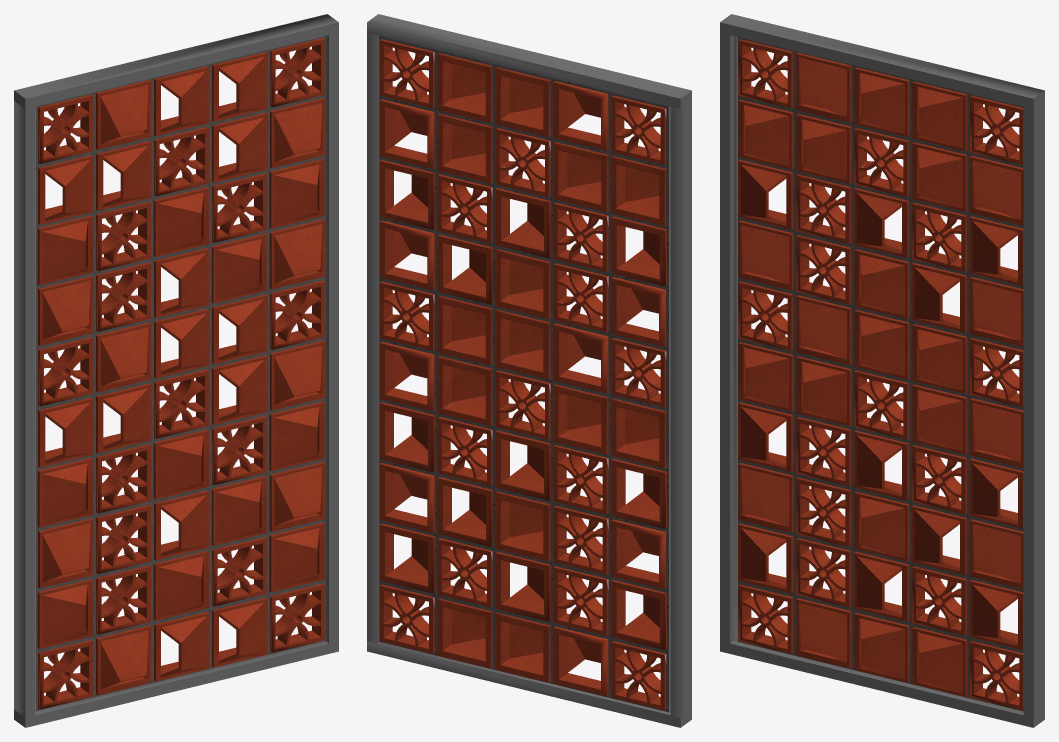
File: jaali_partition.glb
3 renders of one model, left to right at view 1: azimuth 30°, elevation 25°; view 2: azimuth 150°, elevation 25°; view 3: azimuth 330°, elevation 25°, orthographic.
Parts seen in each view (by area): view 1: mesh_237_ROOT__Component_5395_Layer0, mesh_239_ROOT__Component_5422_Layer0, mesh_238_ROOT__Component_2172_Layer0, mesh_0_ROOT__Component_2172_Layer0, mesh_103_ROOT__Component_2199__Component_2254__CAMP__Compone, mesh_192_ROOT__Component_2199__Component_2254__CAMP__Compone, mesh_207_ROOT__Component_2199__Component_2254__CAMP__Compone, mesh_10_ROOT__Component_2199__Component_2254__CAMP__Componen, mesh_19_ROOT__Component_2199__Component_2254__CAMP__Componen, mesh_132_ROOT__Component_2199__Component_2254__CAMP__Compone, mesh_159_ROOT__Component_2199__Component_2254__CAMP__Compone, mesh_183_ROOT__Component_2199__Component_2254__CAMP__Compone (+53 smaller); view 2: mesh_237_ROOT__Component_5395_Layer0, mesh_239_ROOT__Component_5422_Layer0, mesh_238_ROOT__Component_2172_Layer0, mesh_0_ROOT__Component_2172_Layer0, mesh_112_ROOT__Component_2199__Component_2254__CAMP__Compone, mesh_65_ROOT__Component_2199__Component_2254__CAMP__Componen, mesh_85_ROOT__Component_2199__Component_2254__CAMP__Componen, mesh_197_ROOT__Component_2199__Component_2254__CAMP__Compone, mesh_29_ROOT__Component_2199__Component_2254__CAMP__Componen, mesh_34_ROOT__Component_2199__Component_2254__CAMP__Componen, mesh_154_ROOT__Component_2199__Component_2254__CAMP__Compone, mesh_43_ROOT__Component_2199__Component_2254__CAMP__Componen (+49 smaller); view 3: mesh_239_ROOT__Component_5422_Layer0, mesh_237_ROOT__Component_5395_Layer0, mesh_238_ROOT__Component_2172_Layer0, mesh_0_ROOT__Component_2172_Layer0, mesh_70_ROOT__Component_2199__Component_2254__CAMP__Componen, mesh_154_ROOT__Component_2199__Component_2254__CAMP__Compone, mesh_229_ROOT__Component_2199__Component_2254__CAMP__Compone, mesh_34_ROOT__Component_2199__Component_2254__CAMP__Componen, mesh_94_ROOT__Component_2199__Component_2254__CAMP__Componen, mesh_117_ROOT__Component_2199__Component_2254__CAMP__Compone, mesh_127_ROOT__Component_2199__Component_2254__CAMP__Compone, mesh_159_ROOT__Component_2199__Component_2254__CAMP__Compone (+65 smaller).
Part boxes in pixels (bbox=[...]): mesh_237_ROOT__Component_5395_Layer0: bbox=[14, 101, 35, 717]; mesh_239_ROOT__Component_5422_Layer0: bbox=[325, 32, 338, 643]; mesh_238_ROOT__Component_2172_Layer0: bbox=[14, 14, 338, 108]; mesh_0_ROOT__Component_2172_Layer0: bbox=[14, 641, 338, 727]; mesh_103_ROOT__Component_2199__Component_2254__CAMP__Compone: bbox=[96, 625, 151, 695]; mesh_192_ROOT__Component_2199__Component_2254__CAMP__Compone: bbox=[269, 158, 324, 228]; mesh_207_ROOT__Component_2199__Component_2254__CAMP__Compone: bbox=[211, 233, 266, 303]; mesh_10_ROOT__Component_2199__Component_2254__CAMP__Componen: bbox=[153, 429, 208, 499]; mesh_19_ROOT__Component_2199__Component_2254__CAMP__Componen: bbox=[96, 322, 151, 392]; mesh_132_ROOT__Component_2199__Component_2254__CAMP__Compone: bbox=[38, 276, 93, 345]; mesh_159_ROOT__Component_2199__Component_2254__CAMP__Compone: bbox=[96, 80, 151, 149]; mesh_183_ROOT__Component_2199__Component_2254__CAMP__Compone: bbox=[153, 550, 208, 620]; mesh_237_ROOT__Component_5395_Layer0: bbox=[670, 101, 691, 717]; mesh_239_ROOT__Component_5422_Layer0: bbox=[367, 32, 379, 643]; mesh_238_ROOT__Component_2172_Layer0: bbox=[367, 14, 691, 108]; mesh_0_ROOT__Component_2172_Layer0: bbox=[367, 641, 691, 727]; mesh_112_ROOT__Component_2199__Component_2254__CAMP__Compone: bbox=[437, 598, 492, 668]; mesh_65_ROOT__Component_2199__Component_2254__CAMP__Componen: bbox=[495, 309, 550, 379]; mesh_85_ROOT__Component_2199__Component_2254__CAMP__Componen: bbox=[553, 384, 608, 454]; mesh_197_ROOT__Component_2199__Component_2254__CAMP__Compone: bbox=[437, 53, 492, 123]; mesh_29_ROOT__Component_2199__Component_2254__CAMP__Componen: bbox=[437, 356, 492, 426]; mesh_34_ROOT__Component_2199__Component_2254__CAMP__Componen: bbox=[611, 398, 666, 468]; mesh_154_ROOT__Component_2199__Component_2254__CAMP__Compone: bbox=[611, 156, 666, 226]; mesh_43_ROOT__Component_2199__Component_2254__CAMP__Componen: bbox=[437, 295, 492, 365]; mesh_239_ROOT__Component_5422_Layer0: bbox=[1023, 101, 1044, 717]; mesh_237_ROOT__Component_5395_Layer0: bbox=[720, 32, 733, 643]; mesh_238_ROOT__Component_2172_Layer0: bbox=[720, 14, 1044, 108]; mesh_0_ROOT__Component_2172_Layer0: bbox=[720, 641, 1044, 727]; mesh_70_ROOT__Component_2199__Component_2254__CAMP__Componen: bbox=[854, 491, 909, 561]; mesh_154_ROOT__Component_2199__Component_2254__CAMP__Compone: bbox=[738, 99, 793, 169]; mesh_229_ROOT__Component_2199__Component_2254__CAMP__Compone: bbox=[854, 67, 909, 137]; mesh_34_ROOT__Component_2199__Component_2254__CAMP__Componen: bbox=[738, 342, 793, 411]; mesh_94_ROOT__Component_2199__Component_2254__CAMP__Componen: bbox=[738, 463, 793, 532]; mesh_117_ROOT__Component_2199__Component_2254__CAMP__Compone: bbox=[854, 612, 909, 682]; mesh_127_ROOT__Component_2199__Component_2254__CAMP__Compone: bbox=[854, 249, 909, 319]; mesh_159_ROOT__Component_2199__Component_2254__CAMP__Compone: bbox=[796, 52, 851, 122].
Size of the model in its own units: 1211 by 2323 by 124.
Materials: 6 (3 with a texture image).
